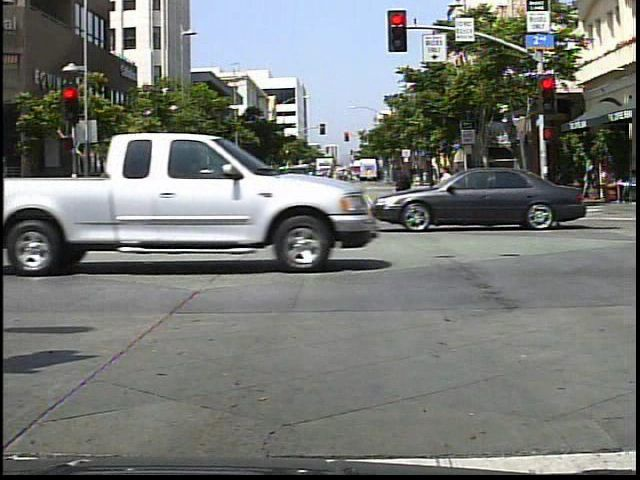person: (435, 159, 466, 223), (389, 163, 419, 226), (162, 166, 194, 225)
